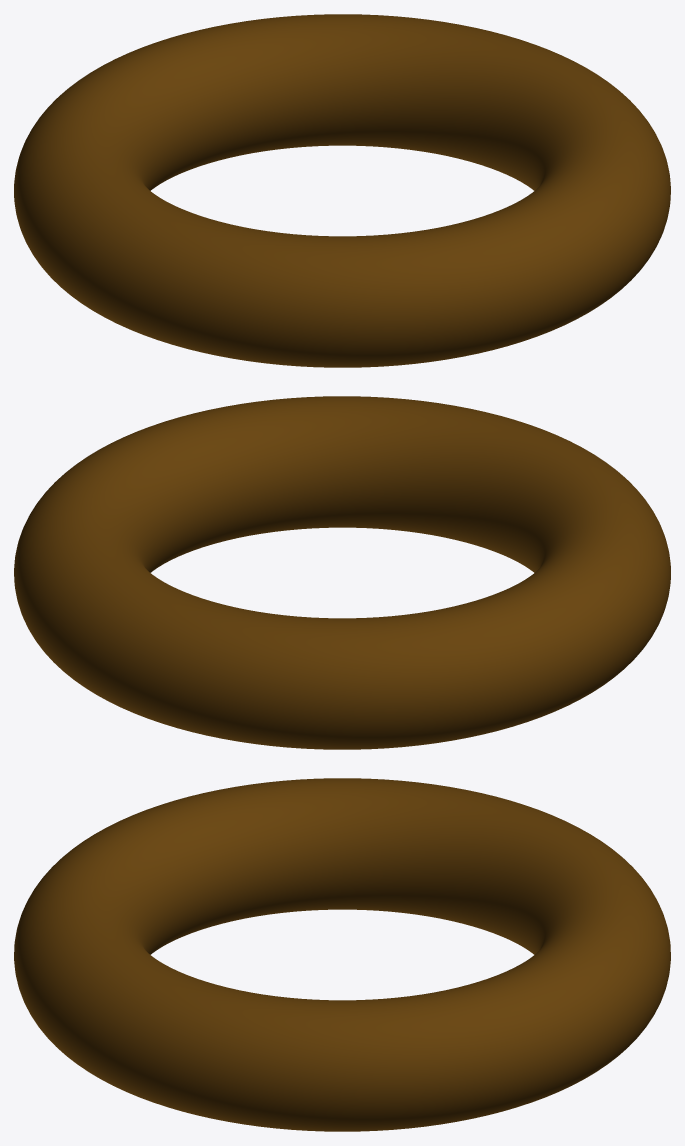
File: noseRing.glb
3 views of the same model, one above another, from view 1: azimuth 30°, elevation 25°; view 2: azimuth 150°, elevation 25°; view 3: azimuth 270°, elevation 25° (orthographic).
Parts seen in each view (by area): view 1: Torus; view 2: Torus; view 3: Torus.
Part boxes in pixels (x1,y1,x2,y2): Torus: (14, 14, 670, 367); Torus: (14, 396, 670, 749); Torus: (14, 778, 670, 1131).
Bounding box in the file's own units: 0.025 × 0.005 × 0.025.
